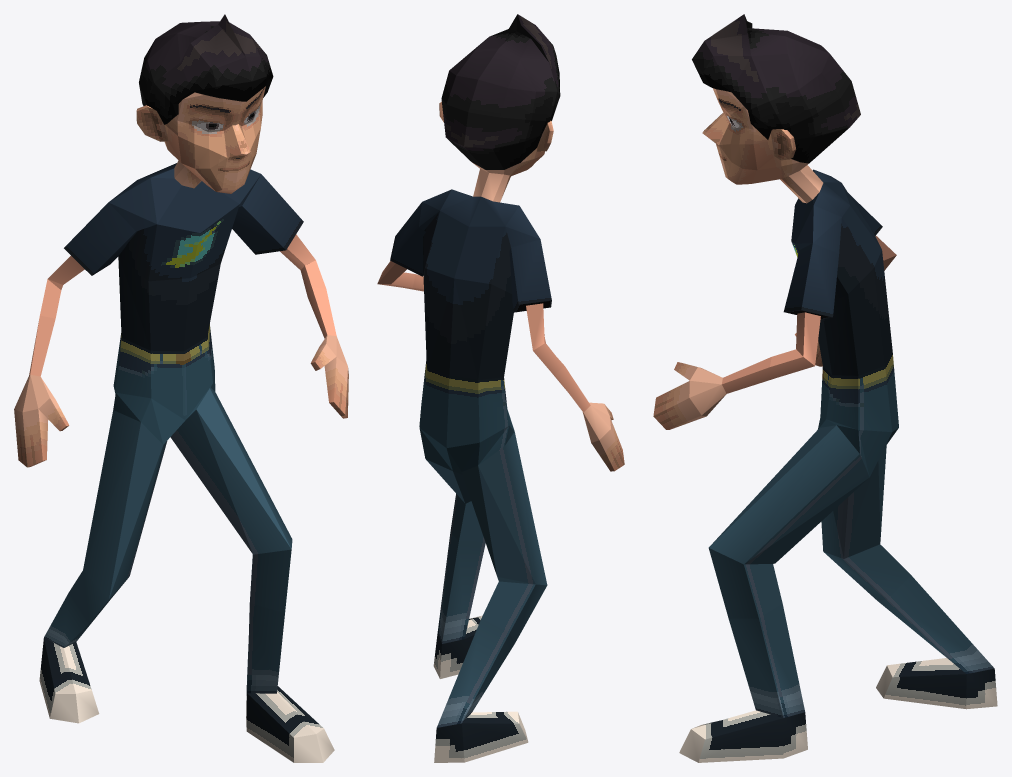
3 renders of one model, left to right at view 1: azimuth 30°, elevation 25°; view 2: azimuth 150°, elevation 25°; view 3: azimuth 270°, elevation 25°, orthographic. The views are drawn at different scales.
Parts seen in each view (by area): view 1: mtrobinsons-2023-09-24-08-34-41_0; view 2: mtrobinsons-2023-09-24-08-34-41_0; view 3: mtrobinsons-2023-09-24-08-34-41_0.
Part boxes in pixels (x1=…): mtrobinsons-2023-09-24-08-34-41_0: x1=14, y1=14, x2=348, y2=762; mtrobinsons-2023-09-24-08-34-41_0: x1=377, y1=14, x2=624, y2=762; mtrobinsons-2023-09-24-08-34-41_0: x1=653, y1=14, x2=997, y2=762.
Bounding box in the file's own units: 0.4017 × 1.01 × 0.4441.
3 materials, 3 textured.
